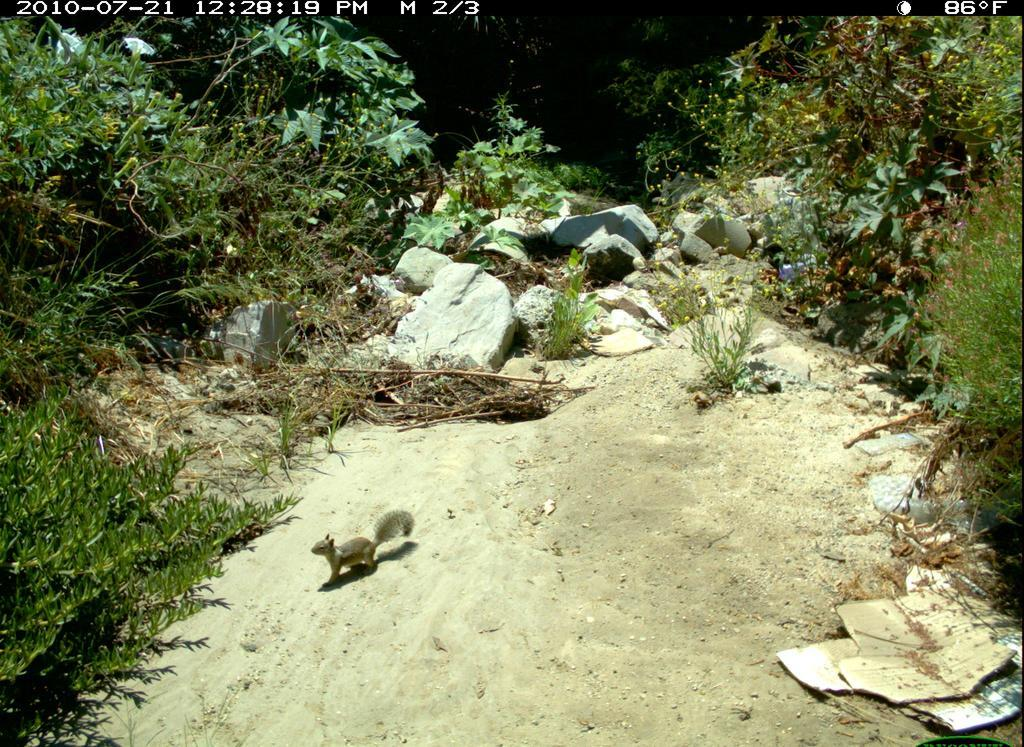squirrel: (306, 504, 417, 594)
